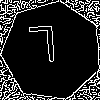L: (27, 25, 59, 73)
